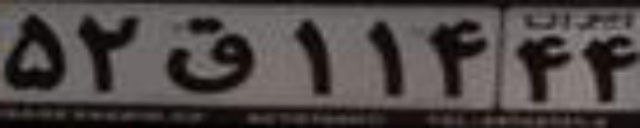1: (361, 19, 406, 94), (291, 18, 335, 94)
2: (76, 12, 139, 94)
4: (428, 19, 488, 98), (579, 35, 639, 103), (516, 36, 574, 102)
5: (3, 14, 67, 92)
ghaf: (159, 15, 257, 93)
